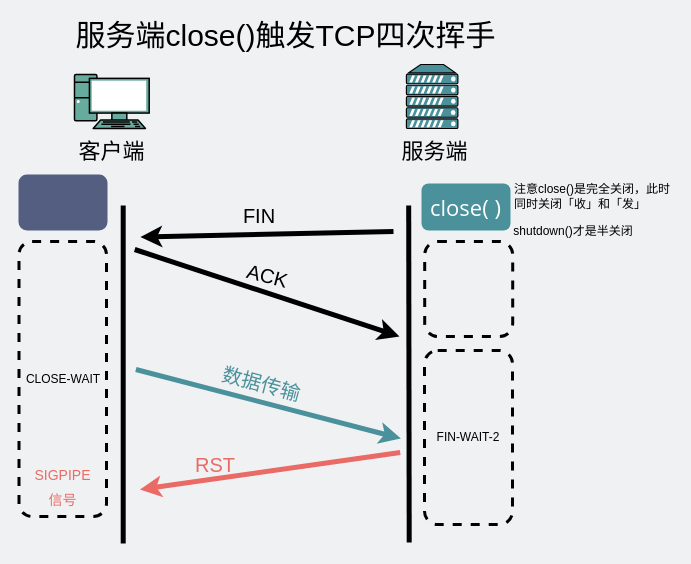
Some shapes in this 691 by 564 pixel diagram are drawn without their labels. Each missing label, with the centre of its shape:
"ESTABLISHED" belongs at point 62,202.
"FIN-WAIT-1" belongs at point 468,289.
